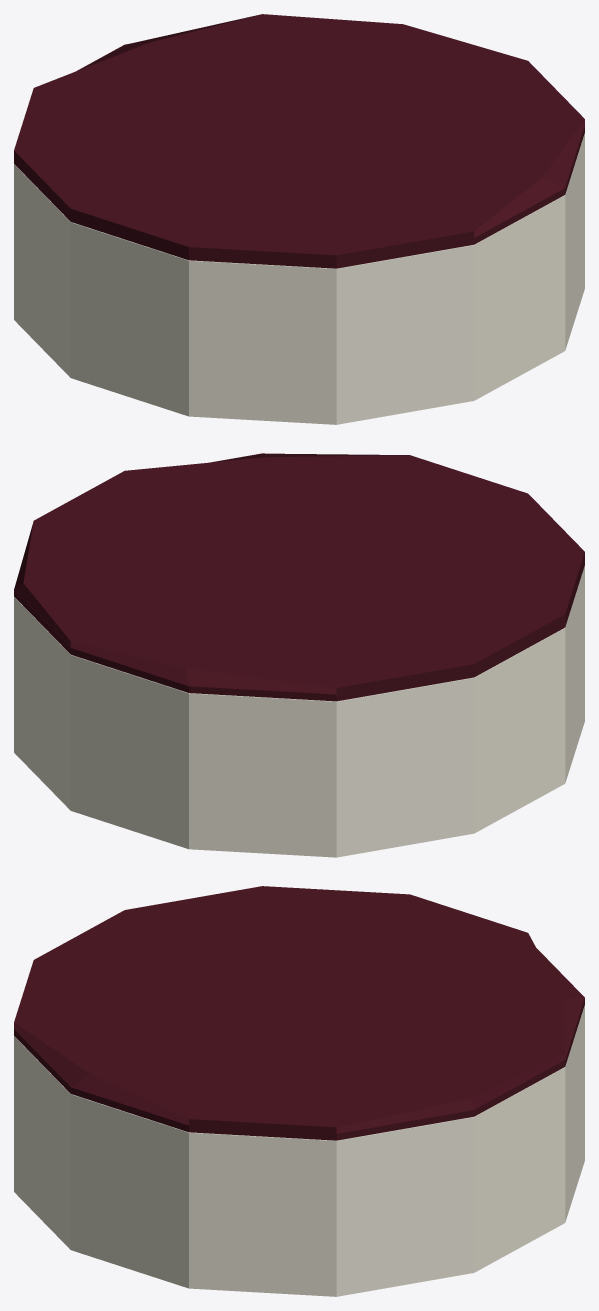
File: layer1biggest.glb
3 views of the same model, one above another, from view 1: azimuth 30°, elevation 25°; view 2: azimuth 150°, elevation 25°; view 3: azimuth 270°, elevation 25° (orthographic).
Visible parts, largest first — view 1: Cylinder.009, Cylinder.014, Cylinder.010; view 2: Cylinder.009, Cylinder.014, Cylinder.010; view 3: Cylinder.009, Cylinder.014, Cylinder.010.
Part boxes in pixels (bbox=[...]): Cylinder.009: bbox=[14, 14, 584, 261]; Cylinder.014: bbox=[14, 133, 584, 424]; Cylinder.010: bbox=[14, 44, 584, 268]; Cylinder.009: bbox=[14, 453, 584, 694]; Cylinder.014: bbox=[14, 566, 584, 857]; Cylinder.010: bbox=[14, 453, 584, 701]; Cylinder.009: bbox=[14, 886, 584, 1133]; Cylinder.014: bbox=[14, 1005, 584, 1296]; Cylinder.010: bbox=[14, 948, 584, 1140].
Size of the model in its own units: 1.51 by 0.4971 by 1.51.
